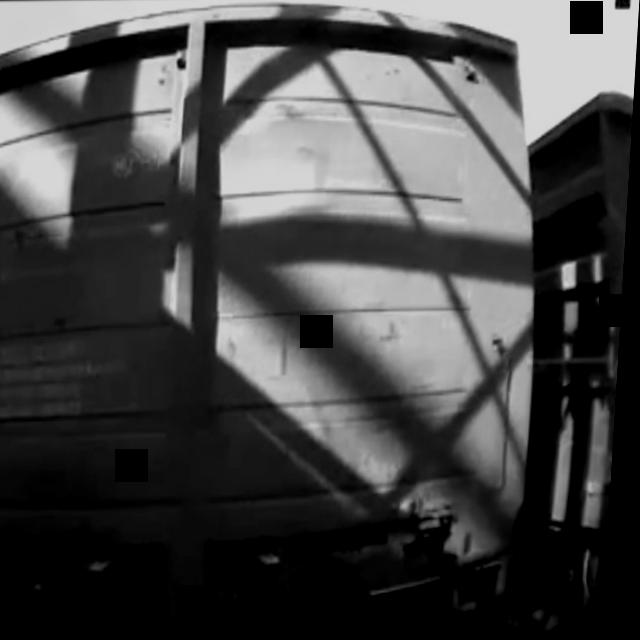gondola: (0, 0, 563, 640), (502, 84, 636, 634)
